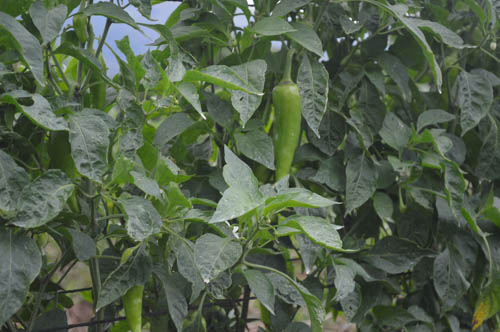ChiliPepper: (269, 85, 303, 188), (117, 248, 148, 332)
